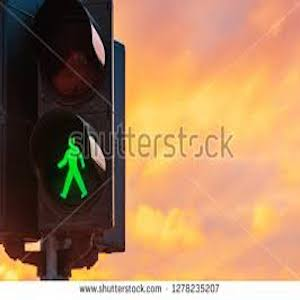green: (45, 135, 91, 196)
